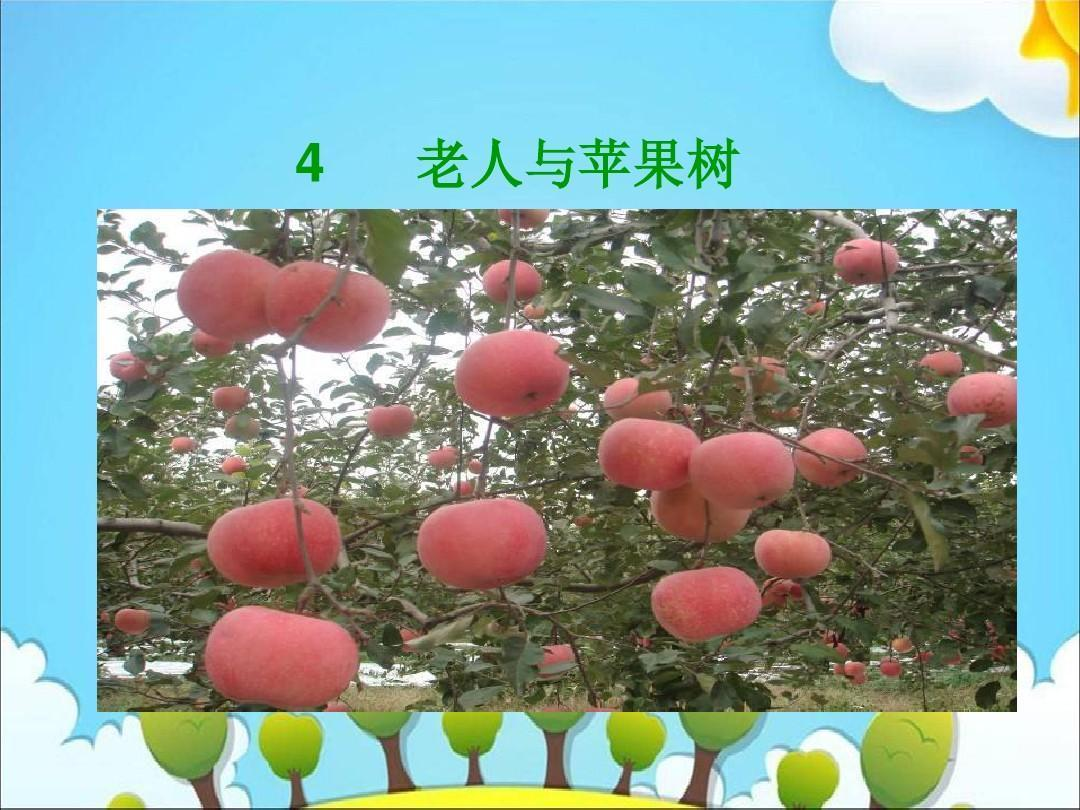apple: (203, 605, 357, 711), (419, 494, 550, 591), (416, 495, 551, 587), (206, 497, 341, 589), (266, 260, 393, 354), (455, 329, 569, 417), (178, 250, 277, 345), (653, 566, 760, 642), (688, 431, 795, 507), (599, 416, 701, 495), (755, 528, 831, 581), (797, 429, 867, 485), (947, 370, 1018, 421), (835, 237, 903, 285), (481, 260, 541, 309)
